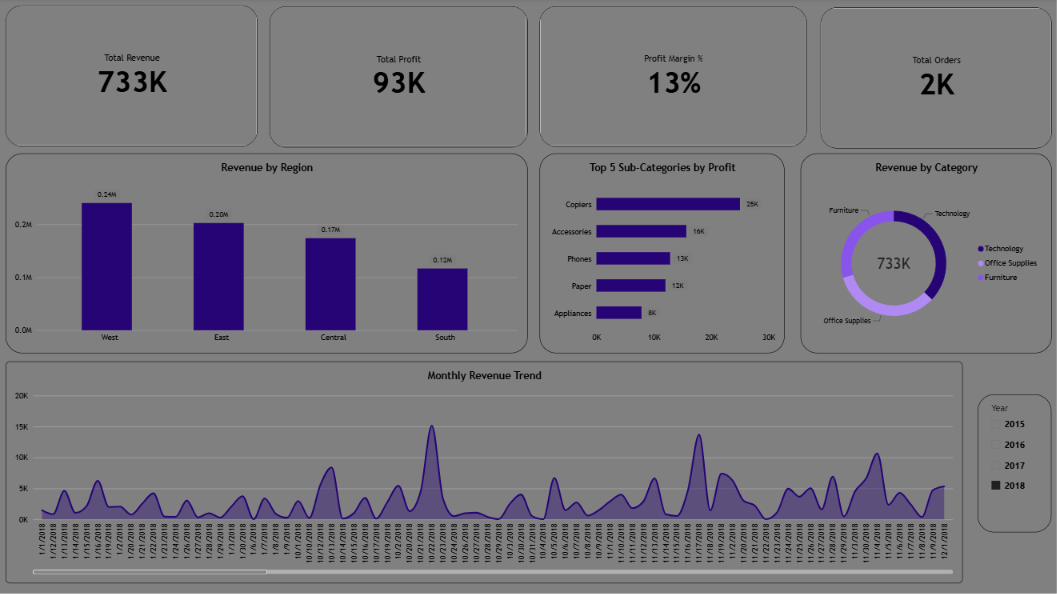

The page's visual inventory and layout, read from the dashboard file:
{"tool":"powerbi","page":{"name":"Page 1","canvas":[1920,1080],"ordinal":0},"visuals":[{"type":"cardVisual","fields":{"Data":["KeyMeasures (2).Total Revenue"]},"box":[14.5,12.7,456,255.2],"z":0},{"type":"cardVisual","fields":{"Data":["KeyMeasures (2).Profit Margin %"]},"box":[980.8,14.5,483.2,253.4],"z":1000},{"type":"cardVisual","fields":{"Data":["KeyMeasures (2).Total Orders"]},"box":[1489.4,16.3,418,255.2],"z":2000},{"type":"areaChart","title":"Monthly Revenue Trend","fields":{"Category":["fact_sales.YearMonth"],"Y":["KeyMeasures (2).Total Revenue"]},"box":[14.5,656.9,1731.8,401.7],"z":3000},{"type":"donutChart","title":"Revenue by Category","fields":{"Category":["dim_product.Category"],"Y":["KeyMeasures (2).Total Revenue"]},"box":[1453.2,280.5,454.2,361.9],"z":4000},{"type":"clusteredBarChart","title":"Top 5 Sub-Categories by Profit","fields":{"Category":["dim_product.Sub-Category"],"Y":["KeyMeasures (2).Total Profit"]},"box":[980.8,280.5,443.4,361.9],"z":5000},{"type":"clusteredColumnChart","title":"Revenue by Region","fields":{"Category":["dim_customer.Region"],"Y":["KeyMeasures (2).Total Revenue"]},"box":[14.5,280.5,944.6,361.9],"z":6000},{"type":"slicer","fields":{"Values":["fact_sales.Year"]},"box":[1773.5,716.6,133.9,249.7],"z":7000},{"type":"cardVisual","fields":{"Data":["KeyMeasures (2).Total Profit"]},"box":[492.2,14.5,466.9,255.2],"z":8000}]}

Visuals, with their boxes in screenshot pixels (x1, y1, x2, y2), scaled from the page's 1920x1080 canvas onto the 1057x594 screenshot:
cardVisual - KeyMeasures (2).Total Revenue: pyautogui.locateOnScreen(8, 7, 259, 147)
cardVisual - KeyMeasures (2).Profit Margin %: pyautogui.locateOnScreen(540, 8, 806, 147)
cardVisual - KeyMeasures (2).Total Orders: pyautogui.locateOnScreen(820, 9, 1050, 149)
"Monthly Revenue Trend" areaChart: pyautogui.locateOnScreen(8, 361, 961, 582)
"Revenue by Category" donutChart: pyautogui.locateOnScreen(800, 154, 1050, 353)
"Top 5 Sub-Categories by Profit" clusteredBarChart: pyautogui.locateOnScreen(540, 154, 784, 353)
"Revenue by Region" clusteredColumnChart: pyautogui.locateOnScreen(8, 154, 528, 353)
slicer - fact_sales.Year: pyautogui.locateOnScreen(976, 394, 1050, 531)
cardVisual - KeyMeasures (2).Total Profit: pyautogui.locateOnScreen(271, 8, 528, 148)
